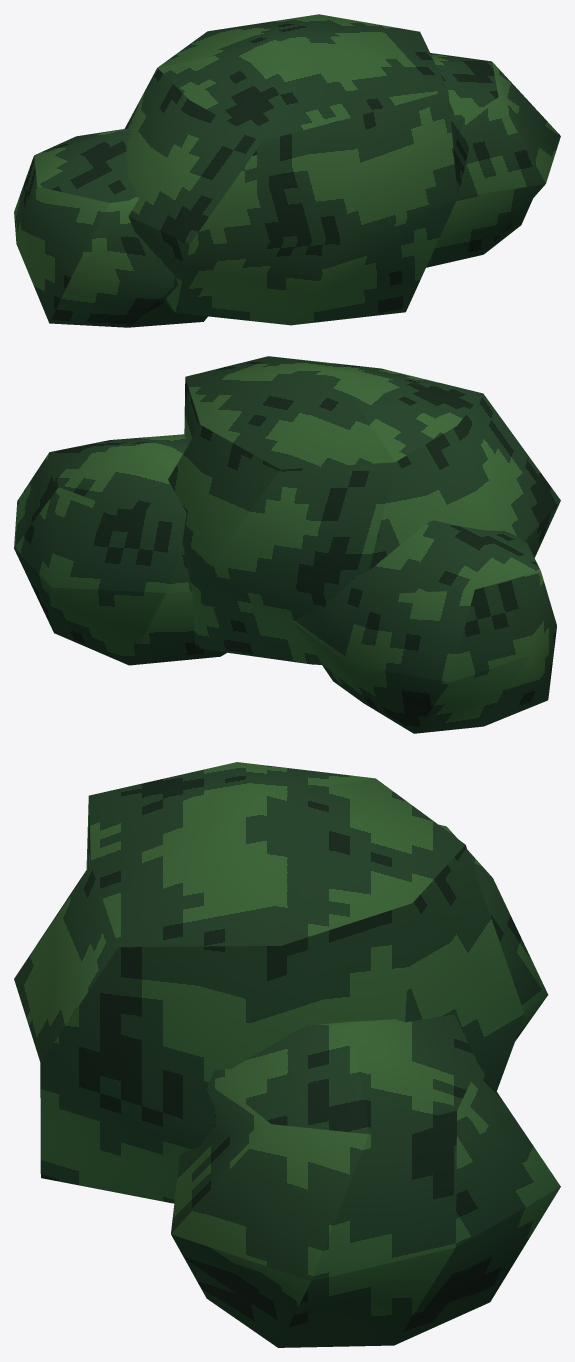
File: wild.shrub.glb
3 views of the same model, one above another, from view 1: azimuth 30°, elevation 25°; view 2: azimuth 150°, elevation 25°; view 3: azimuth 270°, elevation 25° (orthographic). The views are drawn at different scales.
Parts seen in each view (by area): view 1: kit_leaves; view 2: kit_leaves; view 3: kit_leaves.
Part boxes in pixels (left/top/right/bottom): kit_leaves: left=14, top=14, right=560, bottom=327; kit_leaves: left=14, top=356, right=560, bottom=733; kit_leaves: left=14, top=762, right=560, bottom=1347.
Size of the model in its own units: 2.03 by 0.9489 by 1.23.
Materials: 1 (1 with a texture image).
